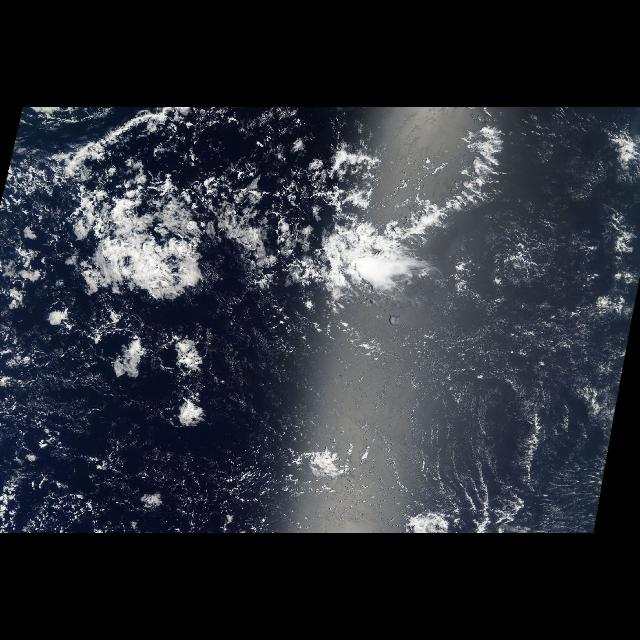Fish: (26, 127, 332, 309)
Sugar: (368, 313, 628, 531)
